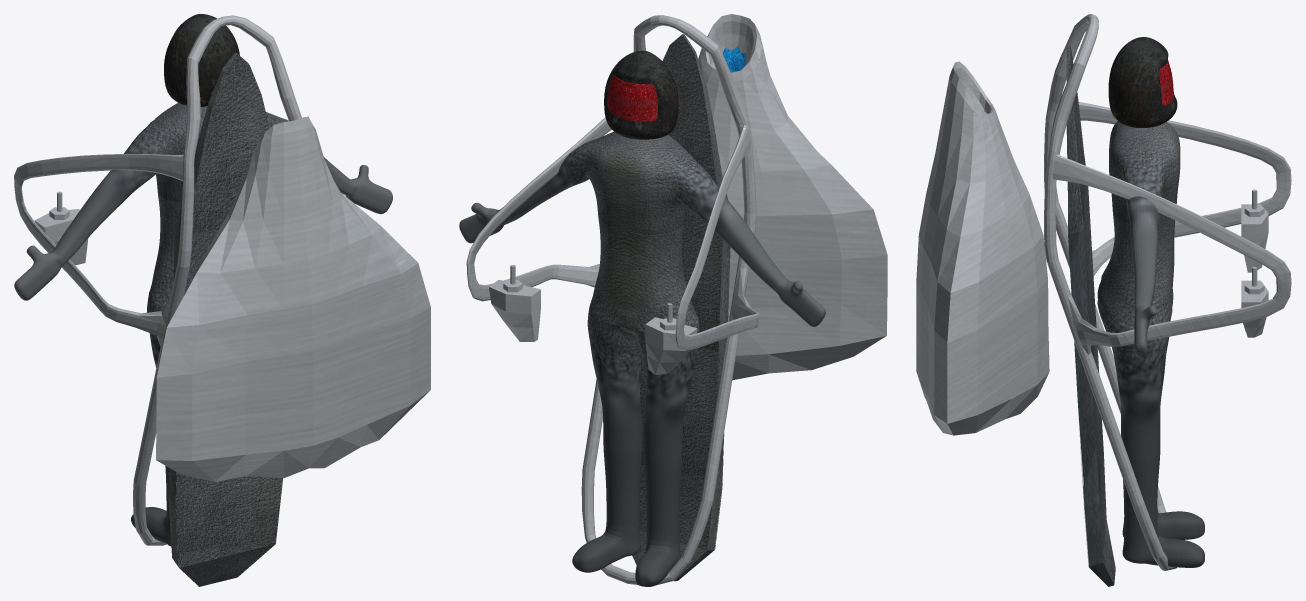
Rendered from monster_jetpack_003.obj.
3 views of the same model, side by side, from view 1: azimuth 30°, elevation 25°; view 2: azimuth 150°, elevation 25°; view 3: azimuth 270°, elevation 25° (orthographic). The views are drawn at different scales.
Parts seen in each view (by area): view 1: MainJet_Cylinder, Seat_Cube.005, Pilot_Cube.010, Frame_Cube.007, Controller_Cube.004; view 2: Pilot_Cube.010, MainJet_Cylinder, Frame_Cube.007, Seat_Cube.005, Controller_Cube.004; view 3: MainJet_Cylinder, Pilot_Cube.010, Frame_Cube.007, Seat_Cube.005, Controller_Cube.004.
Part boxes in pixels (bbox=[...]): MainJet_Cylinder: bbox=[156, 116, 430, 481]; Seat_Cube.005: bbox=[168, 52, 282, 586]; Pilot_Cube.010: bbox=[14, 14, 392, 546]; Frame_Cube.007: bbox=[14, 15, 301, 545]; Controller_Cube.004: bbox=[34, 191, 88, 265]; Pilot_Cube.010: bbox=[459, 50, 825, 586]; MainJet_Cylinder: bbox=[698, 14, 887, 380]; Frame_Cube.007: bbox=[466, 15, 759, 585]; Seat_Cube.005: bbox=[632, 34, 730, 581]; Controller_Cube.004: bbox=[489, 265, 697, 374]; MainJet_Cylinder: bbox=[916, 61, 1049, 435]; Pilot_Cube.010: bbox=[1097, 37, 1204, 567]; Frame_Cube.007: bbox=[1044, 14, 1291, 570]; Seat_Cube.005: bbox=[1066, 44, 1115, 586]; Controller_Cube.004: bbox=[1241, 189, 1268, 337].
Bounding box in the file's own units: 3.13 × 4.54 × 2.76.
